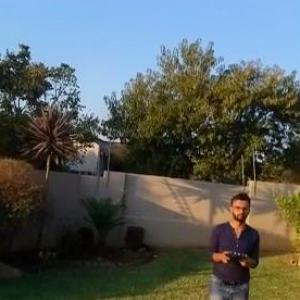follow: (211, 184, 273, 299)
